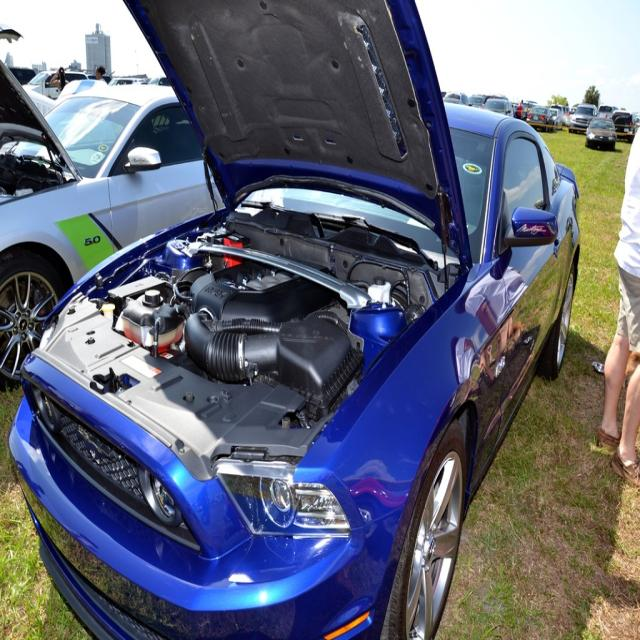car: (584, 116, 615, 144)
